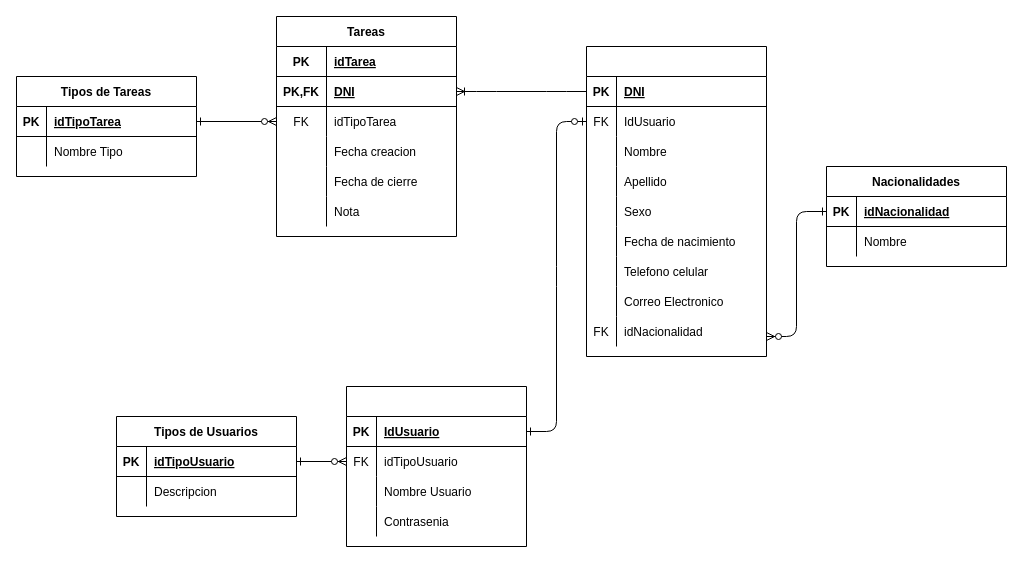
This 1023x563 diagram has some shape labels left out. Here are the shapes that lost their labels. From the top down, the box of each, then its label:
(586, 46, 766, 356): Datos Personales
(346, 386, 526, 546): Usuarios
